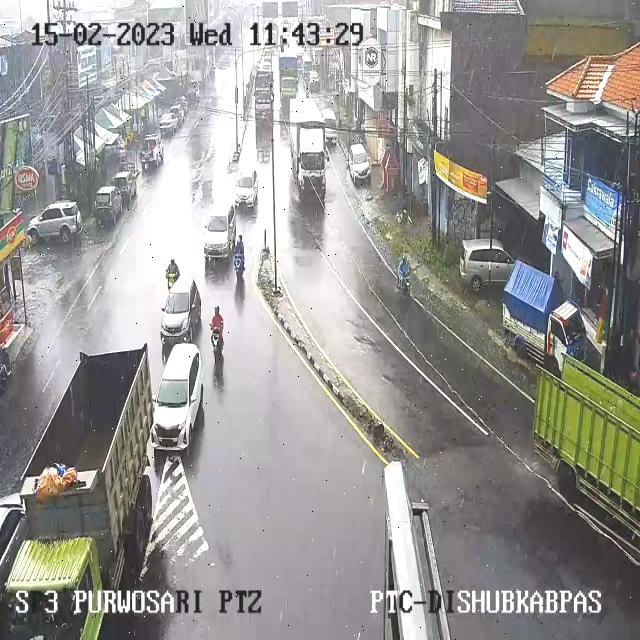Car: (461, 238, 516, 284), (203, 205, 235, 255), (236, 167, 260, 210), (347, 142, 372, 183), (95, 188, 123, 224), (112, 170, 138, 201), (141, 135, 164, 168), (320, 108, 340, 145), (160, 111, 177, 137), (171, 102, 185, 125)
Motorbike: (209, 306, 225, 362), (232, 235, 247, 288), (159, 258, 183, 282), (396, 256, 410, 294)
Truck: (9, 356, 143, 638), (539, 371, 640, 560), (504, 262, 586, 371), (152, 346, 206, 461), (290, 98, 326, 194), (22, 202, 86, 238), (162, 285, 202, 339), (254, 73, 273, 121), (279, 50, 298, 96)
